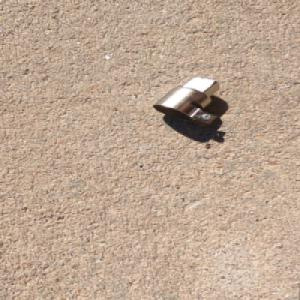MetalPart: (149, 76, 220, 128)
